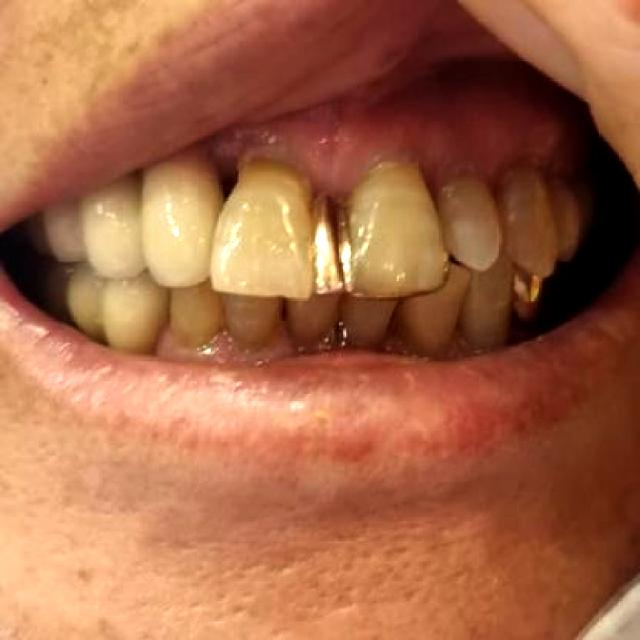Plaque: (221, 132, 555, 193), (204, 331, 247, 358), (269, 326, 294, 356), (376, 333, 394, 353)
